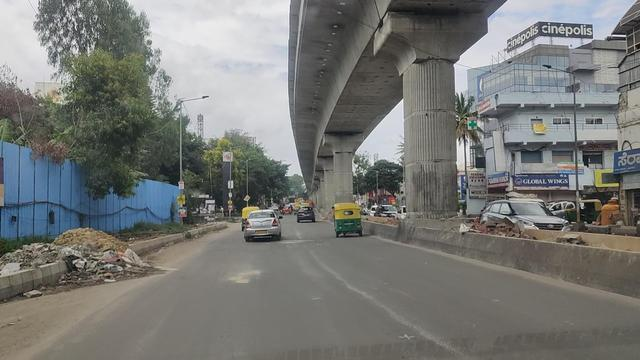LMV: (244, 208, 282, 243), (332, 203, 364, 240)
